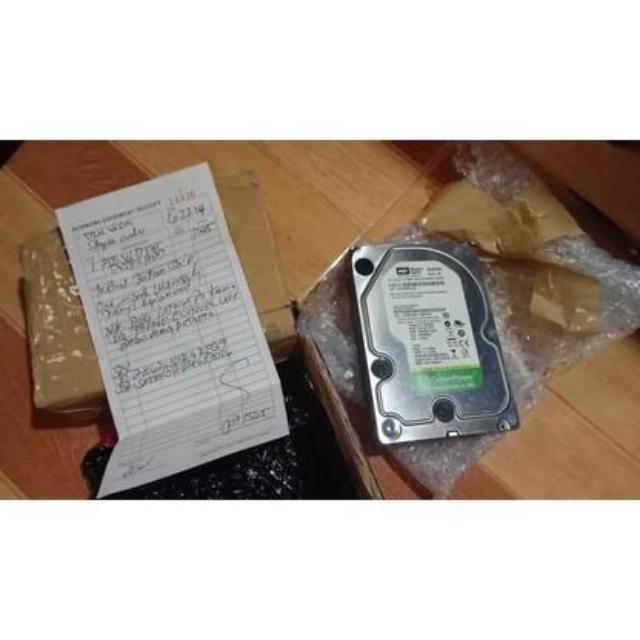DISK: (348, 237, 526, 451)
